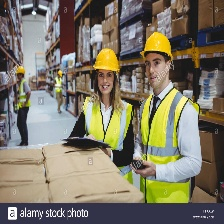helmet: (140, 32, 176, 66), (91, 47, 122, 75), (14, 65, 27, 77), (55, 68, 64, 79)
person: (138, 30, 204, 199), (80, 45, 136, 173), (12, 62, 35, 148), (53, 70, 68, 115)
vest: (142, 90, 201, 201), (84, 94, 135, 160), (16, 79, 32, 111), (54, 75, 64, 95)
